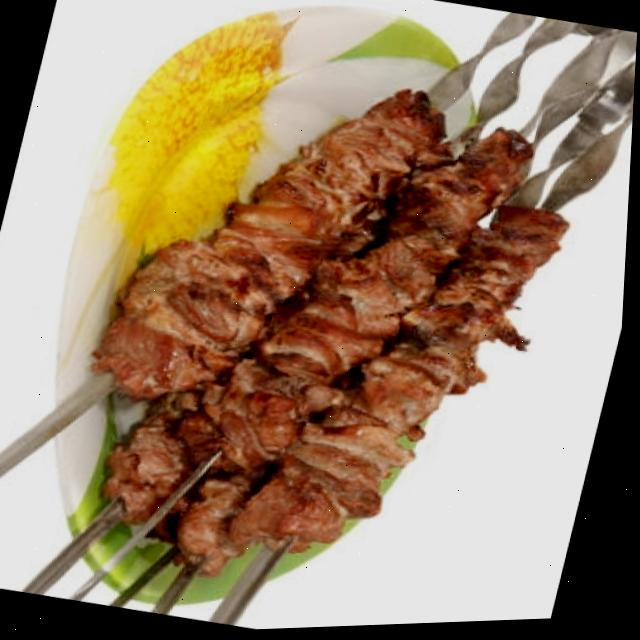烧串烤肉: (8, 0, 640, 639)
